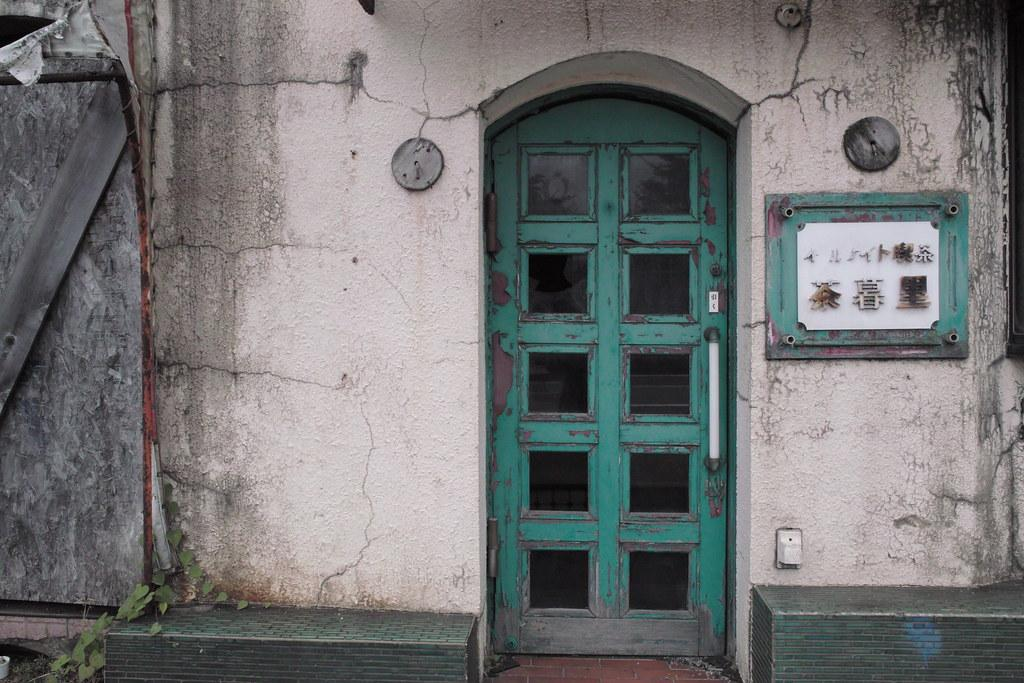door: (489, 93, 732, 658)
